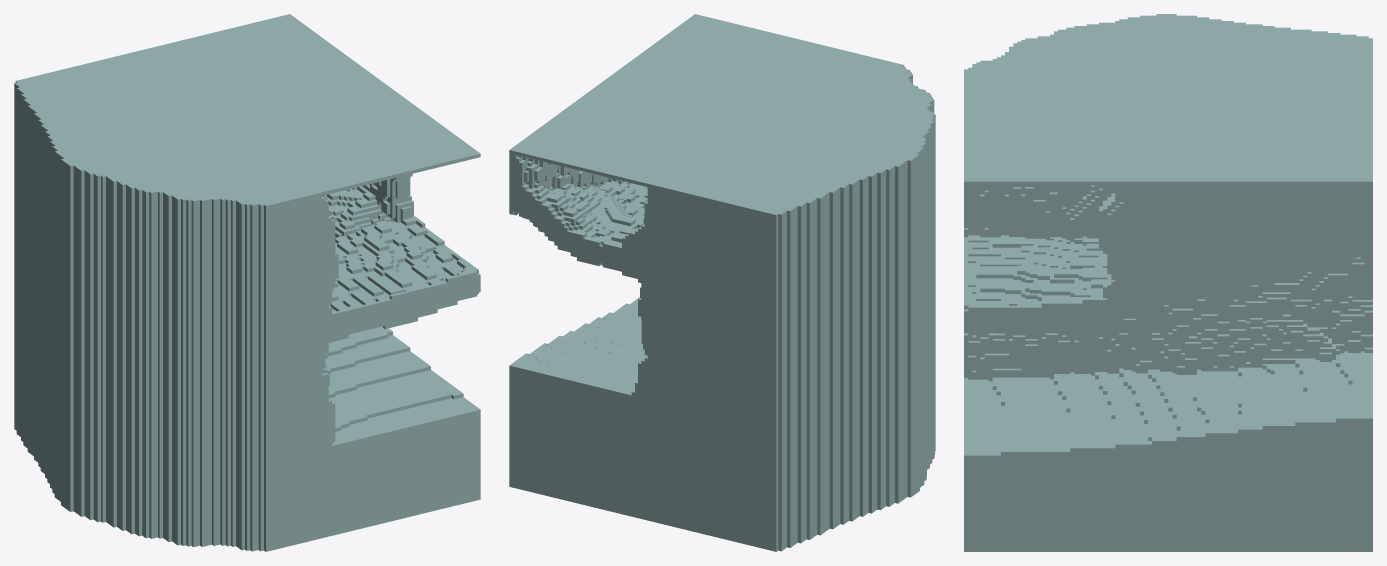
Rendered from TerrainPieces-14.obj.
3 views of the same model, side by side, from view 1: azimuth 30°, elevation 25°; view 2: azimuth 150°, elevation 25°; view 3: azimuth 270°, elevation 25° (orthographic). The views are drawn at different scales.
Parts seen in each view (by area): view 1: TerrainPieces-14; view 2: TerrainPieces-14; view 3: TerrainPieces-14.
Part boxes in pixels (<box>): TerrainPieces-14: <box>14,14,480,551</box>; TerrainPieces-14: <box>509,14,935,551</box>; TerrainPieces-14: <box>964,14,1372,551</box>.
Size of the model in its own units: 97 by 100 by 100.
1 material, 1 textured.
